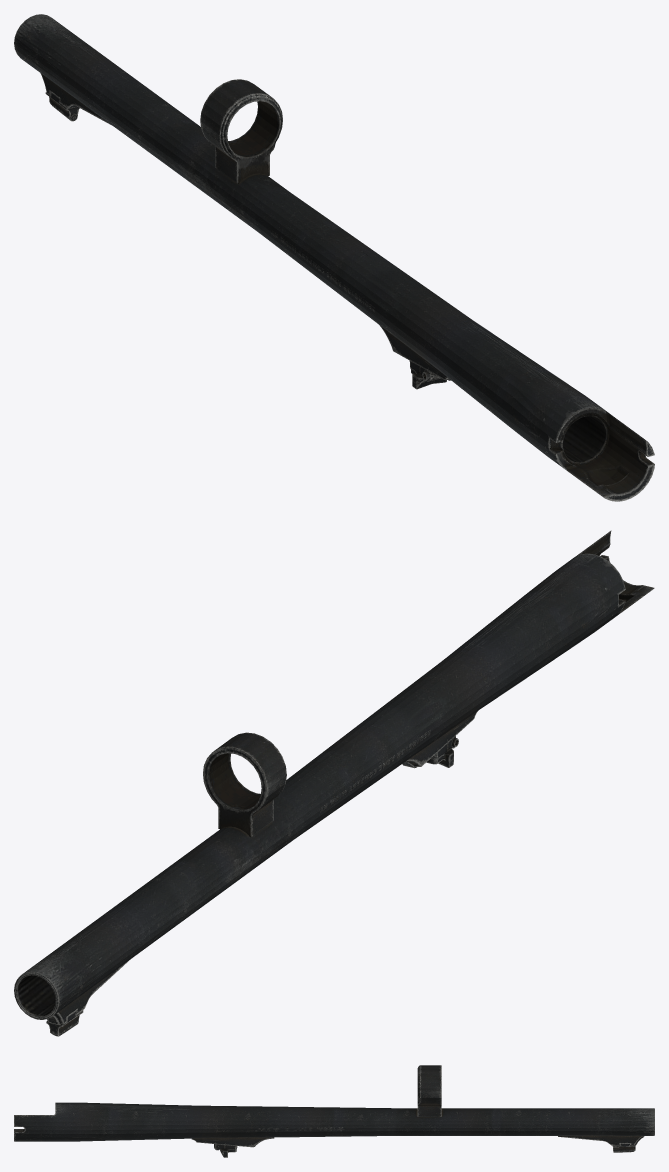
3 renders of one model, top to bottom at view 1: azimuth 30°, elevation 25°; view 2: azimuth 150°, elevation 25°; view 3: azimuth 270°, elevation 25°, orthographic. The views are drawn at different scales.
Visible parts, largest first — view 1: TW_5a787ebcc5856700142fdd98_PZ_Import; view 2: TW_5a787ebcc5856700142fdd98_PZ_Import; view 3: TW_5a787ebcc5856700142fdd98_PZ_Import.
Boxes of the visible parts, x1,y1,x2,y2 form: TW_5a787ebcc5856700142fdd98_PZ_Import: (14,14,654,501); TW_5a787ebcc5856700142fdd98_PZ_Import: (14,530,654,1036); TW_5a787ebcc5856700142fdd98_PZ_Import: (14,1065,654,1157).
Bounding box in the file's own units: 0.0188 × 0.302 × 0.0452.
Materials: 1 (1 with a texture image).
